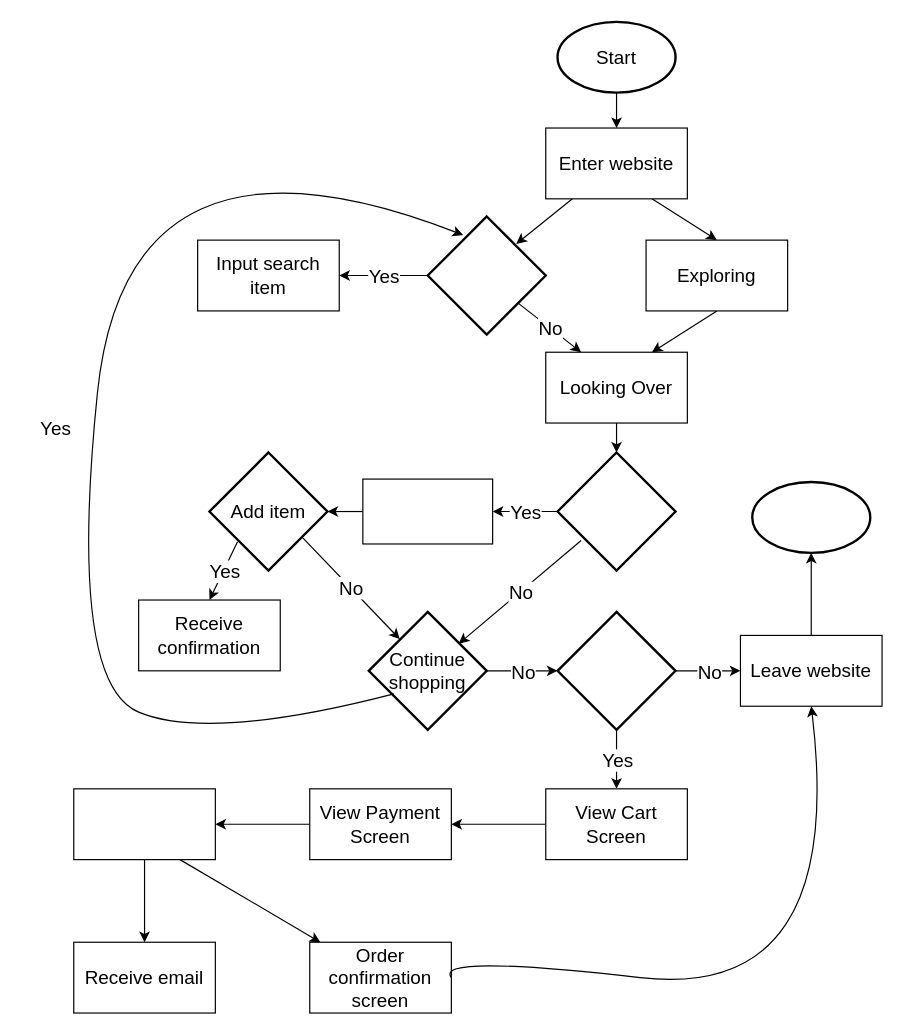
The diagram is 903 pixels wide and 1034 high, and some of its shapes have lost their labels. Here are the shapes that lost their labels. From the top down, the box of each, then its label:
(426, 215, 546, 335): Searching
(362, 478, 493, 544): Product page open
(556, 451, 676, 571): View Item
(750, 480, 871, 553): End
(556, 610, 676, 730): Checkout
(73, 788, 215, 860): Enter payment information
